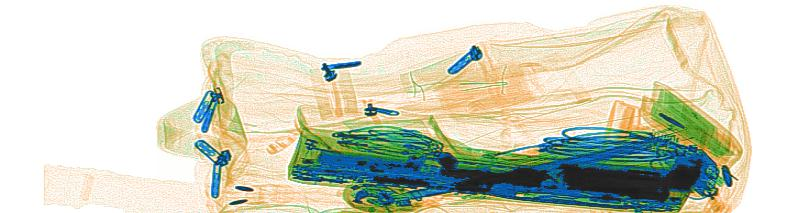seal: (598, 99, 708, 161)
